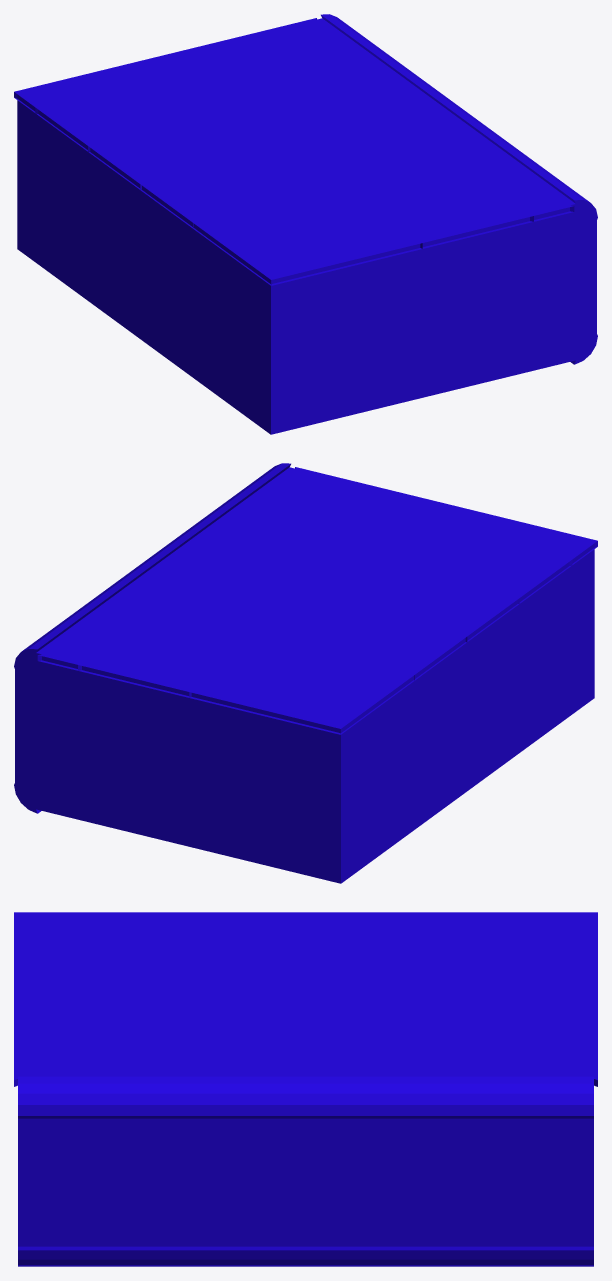
File: book.fbx
3 renders of one model, top to bottom at view 1: azimuth 30°, elevation 25°; view 2: azimuth 150°, elevation 25°; view 3: azimuth 270°, elevation 25°, orthographic. The views are drawn at different scales.
Visible parts, largest first — view 1: Book; view 2: Book; view 3: Book.
Part boxes in pixels (<box>): Book: <box>14,14,597,434</box>; Book: <box>14,463,597,883</box>; Book: <box>14,912,597,1266</box>.
Size of the model in its own units: 220 by 105 by 298.
